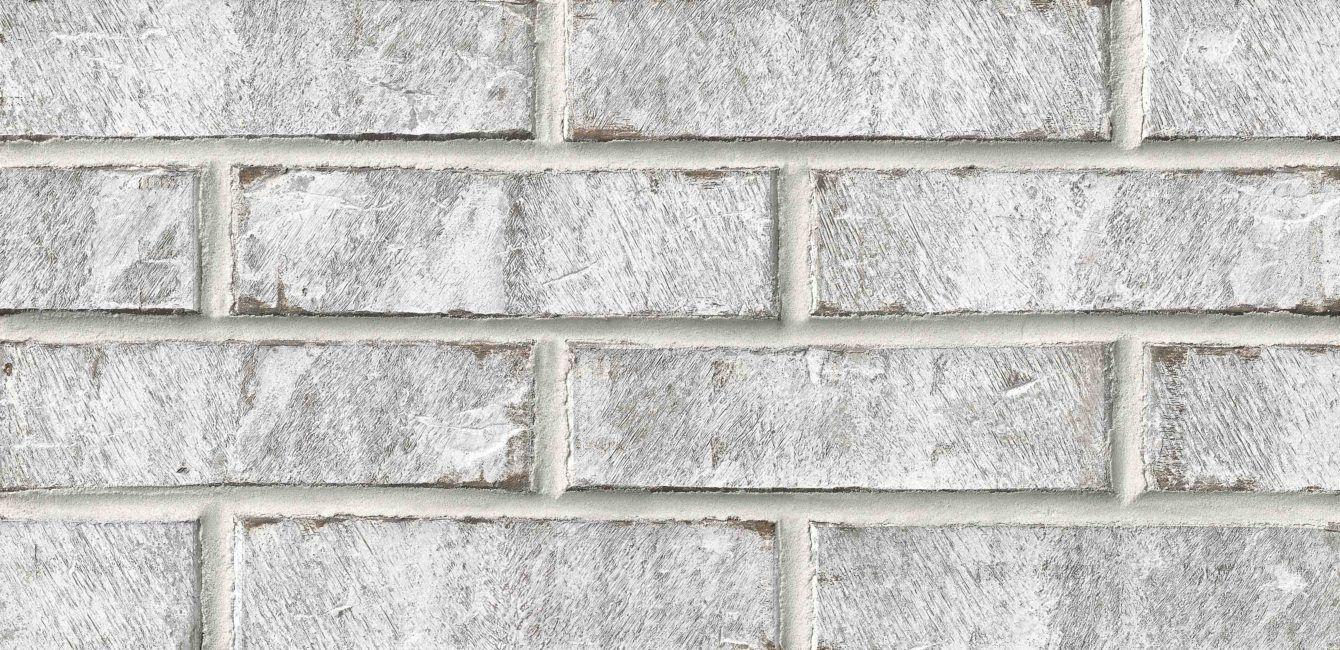Bricks: (560, 342, 1114, 497), (0, 339, 539, 493), (232, 169, 774, 320), (570, 2, 1106, 141), (815, 169, 1340, 309), (0, 0, 536, 132), (807, 523, 1340, 650), (236, 525, 779, 648), (1147, 347, 1340, 492), (0, 170, 195, 308), (0, 517, 200, 650), (1143, 5, 1340, 137)
